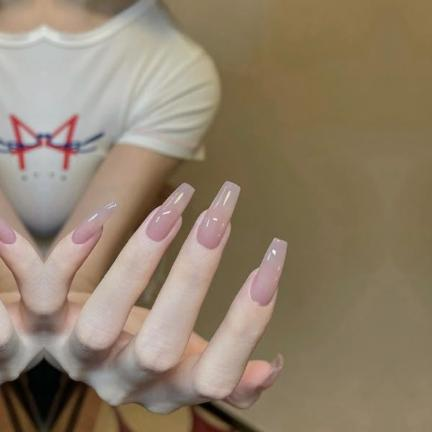Nail: (144, 182, 195, 242), (196, 180, 240, 249), (249, 237, 287, 306), (71, 200, 118, 243), (256, 365, 283, 393), (0, 218, 15, 243)
